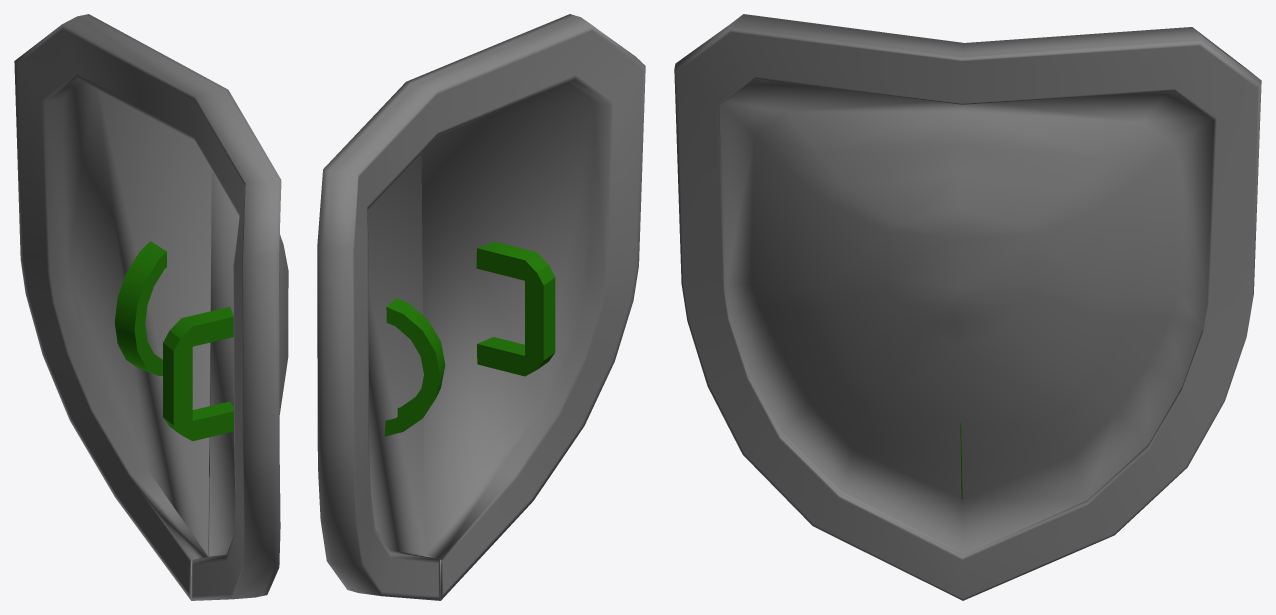
Rendered from skjold.FBX.
The picture shows the model from 3 angles, left to right: view 1: azimuth 30°, elevation 25°; view 2: azimuth 150°, elevation 25°; view 3: azimuth 270°, elevation 25°; orthographic projection. The views are drawn at different scales.
Visible parts, largest first — view 1: Box001; view 2: Box001; view 3: Box001.
Boxes of the visible parts, <box> form: Box001: <box>14,14,288,600</box>; Box001: <box>317,14,645,600</box>; Box001: <box>674,14,1261,600</box>.
Size of the model in its own units: 35.95 by 120 by 117.
